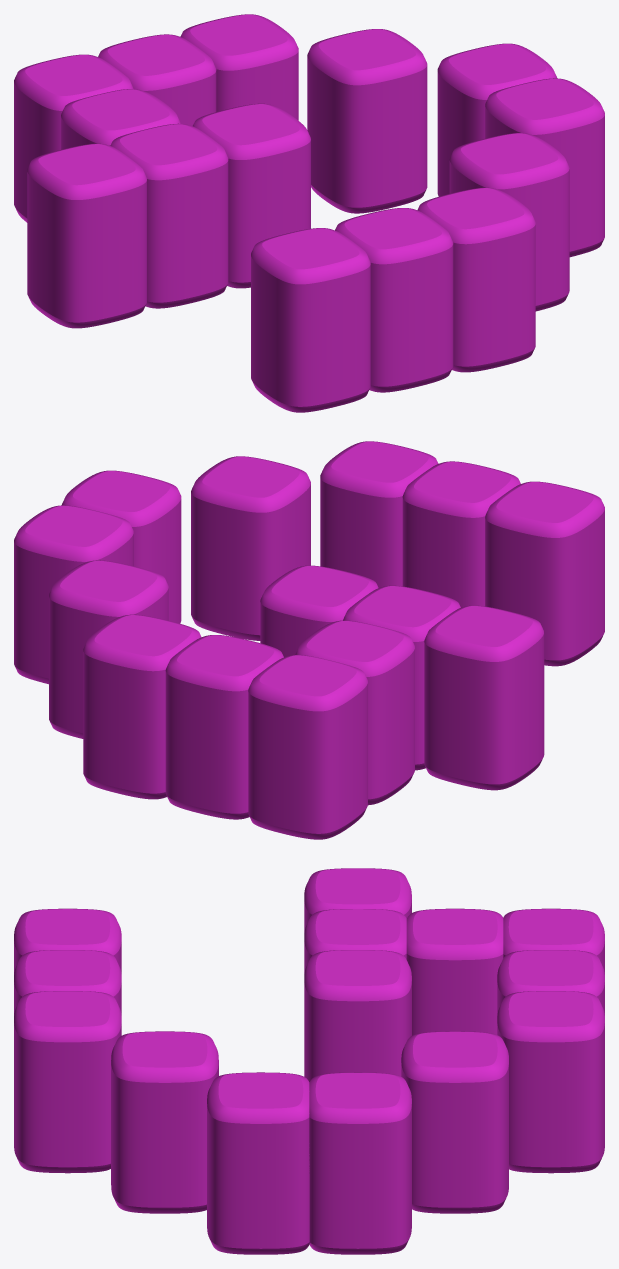
The model's file is Letter_G.fbx.
3 renders of one model, top to bottom at view 1: azimuth 30°, elevation 25°; view 2: azimuth 150°, elevation 25°; view 3: azimuth 270°, elevation 25°, orthographic. The views are drawn at different scales.
Parts seen in each view (by area): view 1: Letter_G; view 2: Letter_G; view 3: Letter_G.
Boxes of the visible parts, x1,y1,x2,y2 form: Letter_G: (14,14,604,412); Letter_G: (14,441,604,839); Letter_G: (14,868,604,1254).
Bounding box in the file's own units: 0.5146 × 0.14 × 0.5146.
